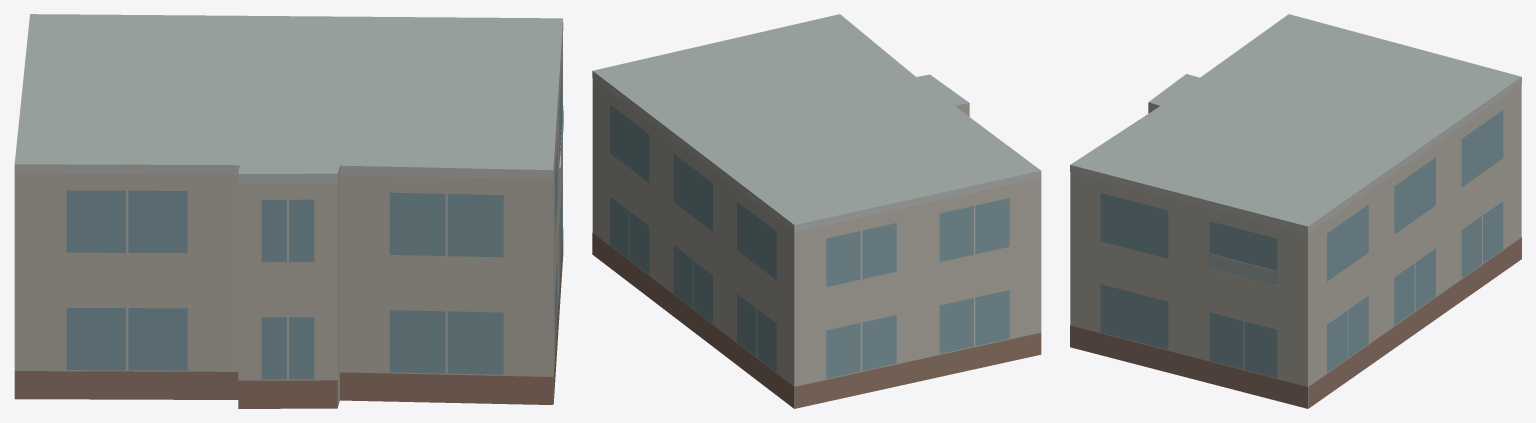
File: survey-upis-32927513.glb
The picture shows the model from 3 angles, left to right: view 1: azimuth 30°, elevation 25°; view 2: azimuth 150°, elevation 25°; view 3: azimuth 270°, elevation 25°; orthographic projection. The views are drawn at different scales.
Visible parts, largest first — view 1: survey-upis-32927513.tmp; view 2: survey-upis-32927513.tmp; view 3: survey-upis-32927513.tmp.
Part boxes in pixels (x1=…): survey-upis-32927513.tmp: x1=14, y1=14, x2=563, y2=408; survey-upis-32927513.tmp: x1=592, y1=14, x2=1041, y2=408; survey-upis-32927513.tmp: x1=1070, y1=14, x2=1521, y2=408.
Bounding box in the file's own units: 15.26 × 6.1 × 13.71.
